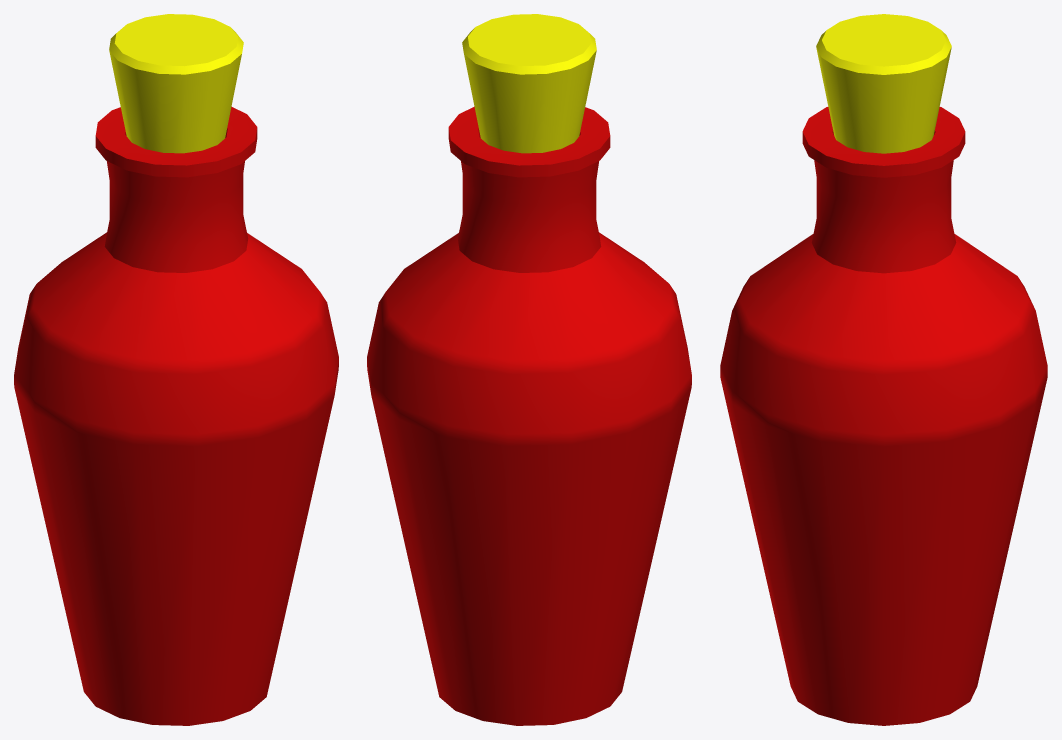
Rendered from Abbie - ChemicalBottle1Pink.fbx.
3 renders of one model, left to right at view 1: azimuth 30°, elevation 25°; view 2: azimuth 150°, elevation 25°; view 3: azimuth 270°, elevation 25°, orthographic.
Visible parts, largest first — view 1: chemicalBottle1; view 2: chemicalBottle1; view 3: chemicalBottle1.
Part boxes in pixels (left/top/right/bottom): chemicalBottle1: left=14, top=14, right=338, bottom=725; chemicalBottle1: left=367, top=14, right=691, bottom=725; chemicalBottle1: left=720, top=14, right=1047, bottom=725.
Bounding box in the file's own units: 8.02 × 17.48 × 8.02.
